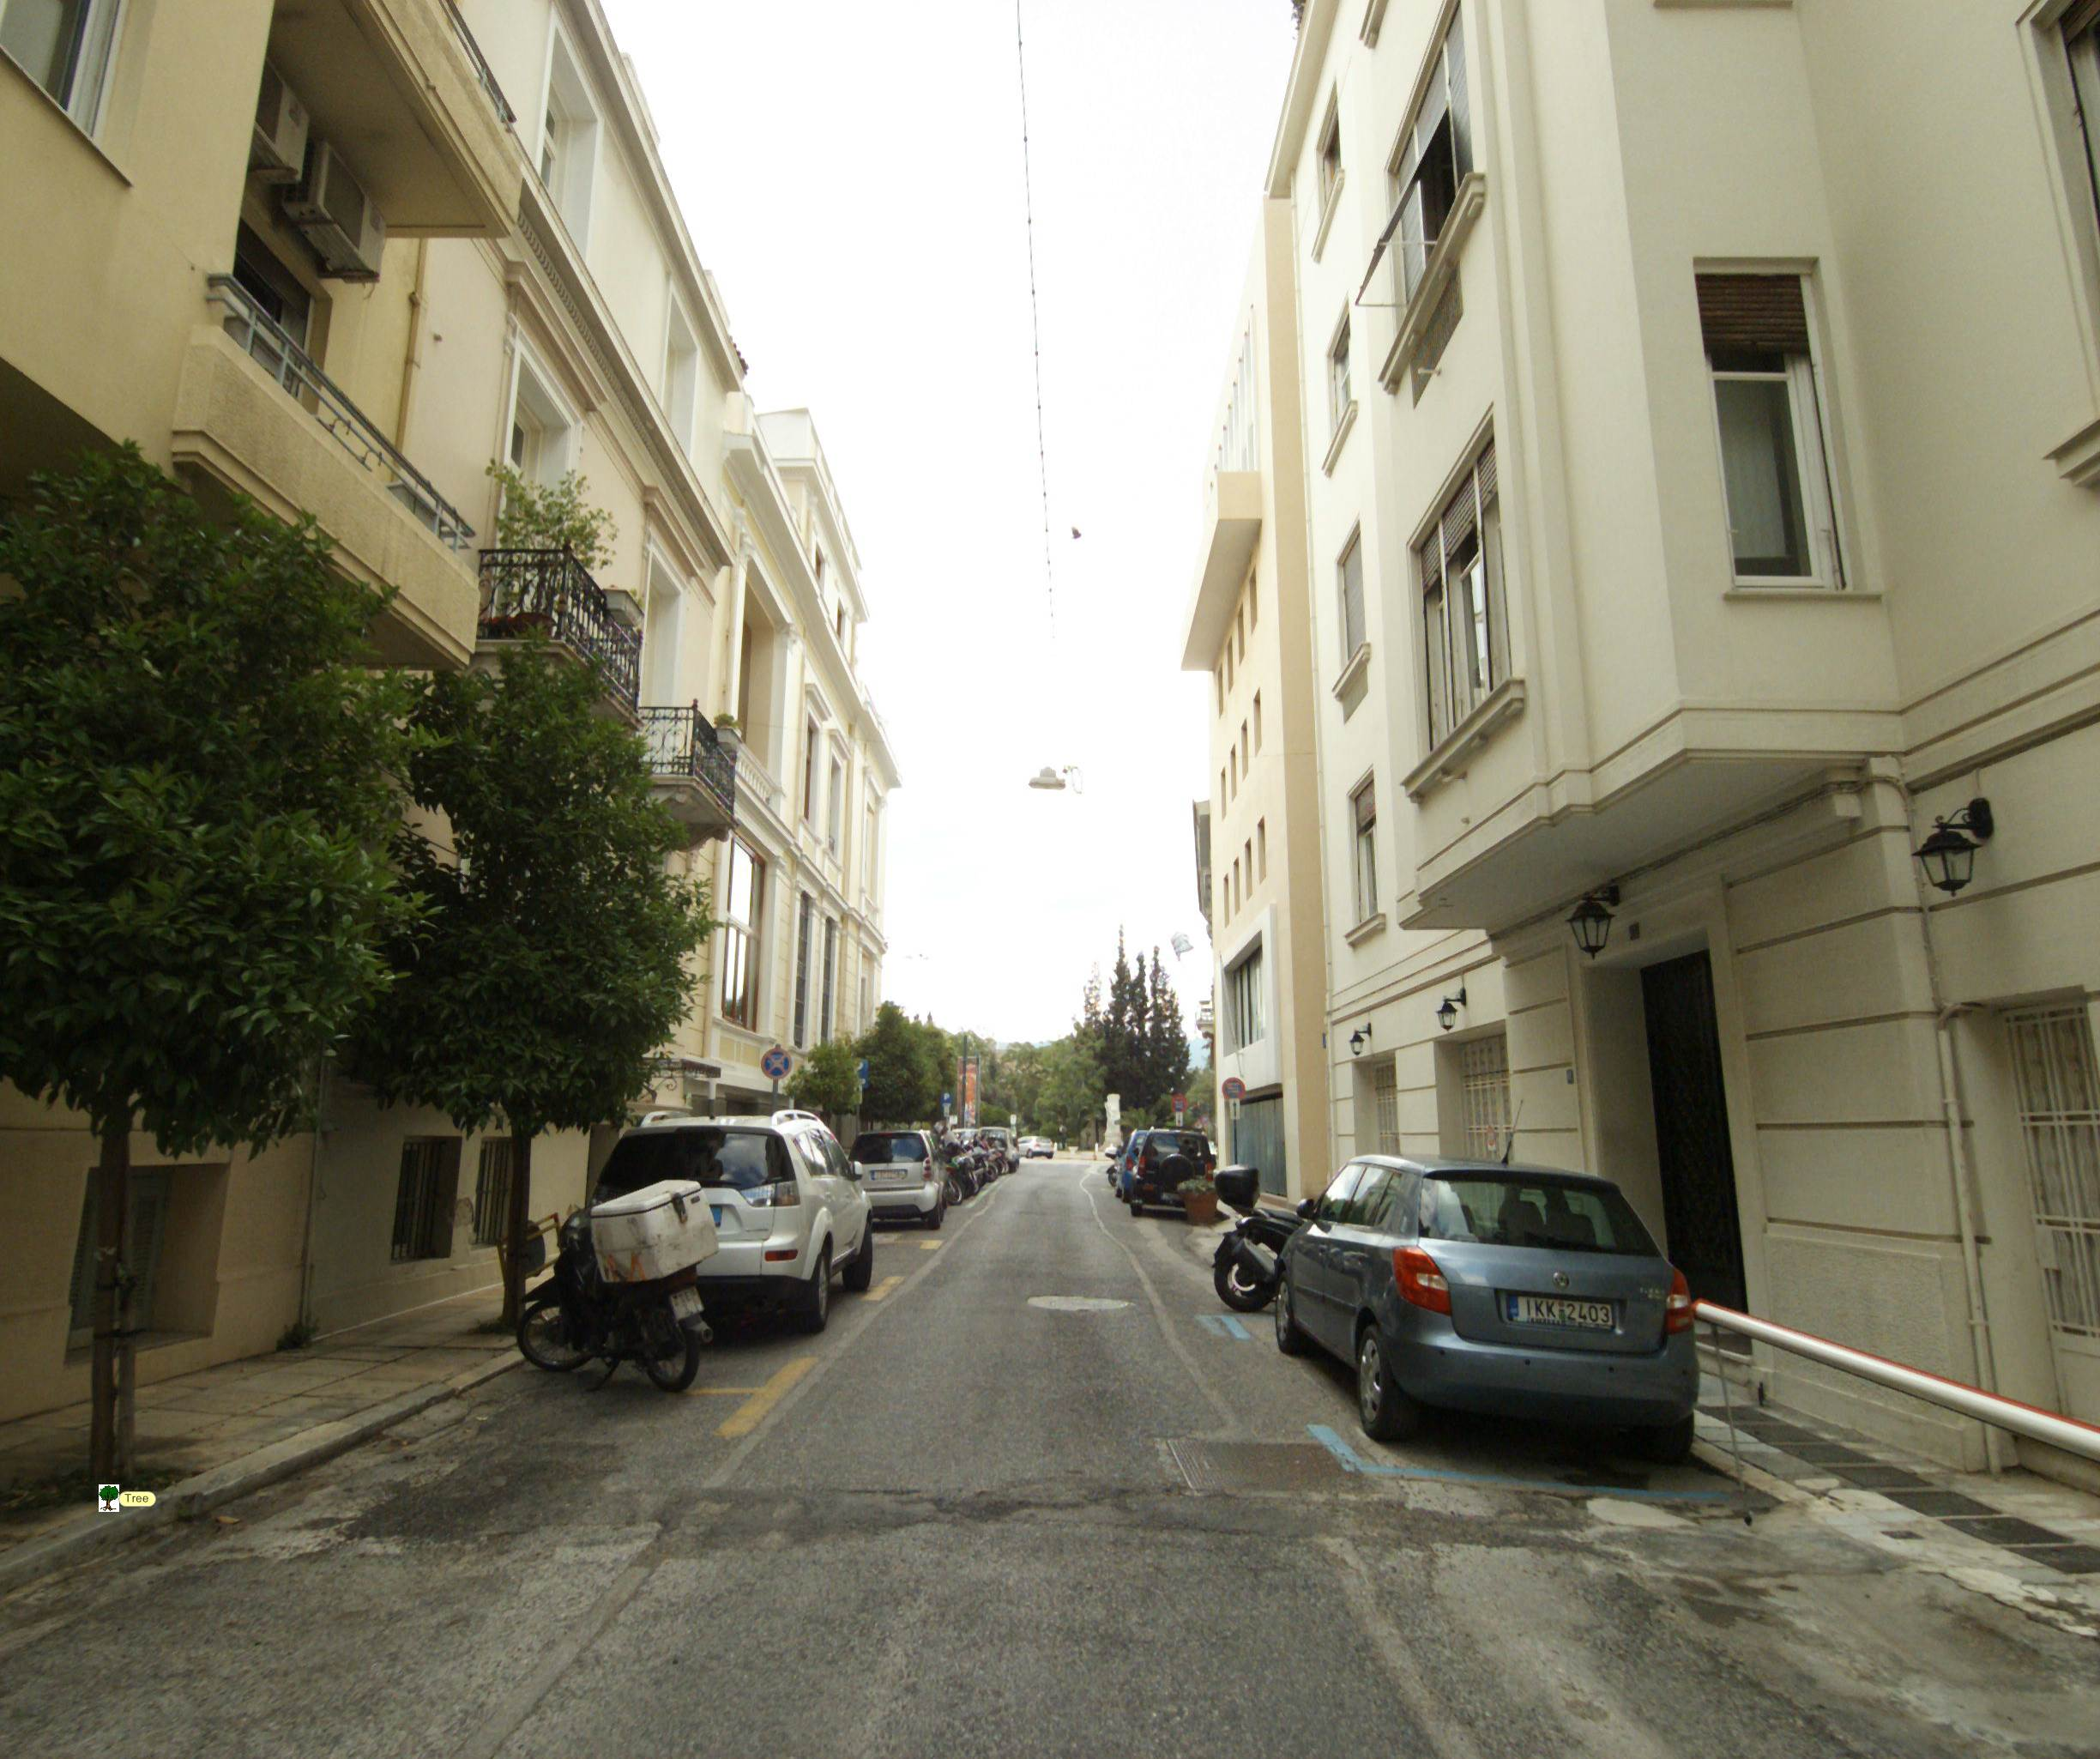tree: (9, 448, 413, 1583)
